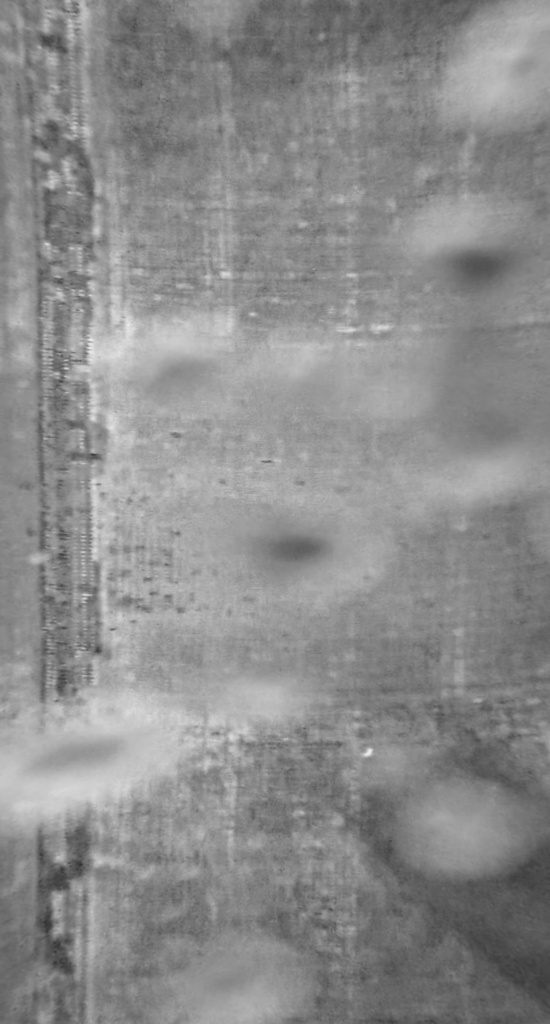splice: (19, 1, 106, 1024)
